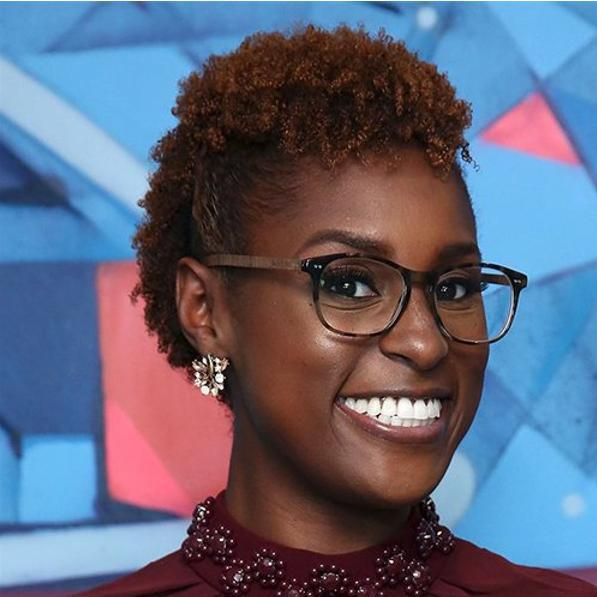Sober: (244, 163, 486, 497)
